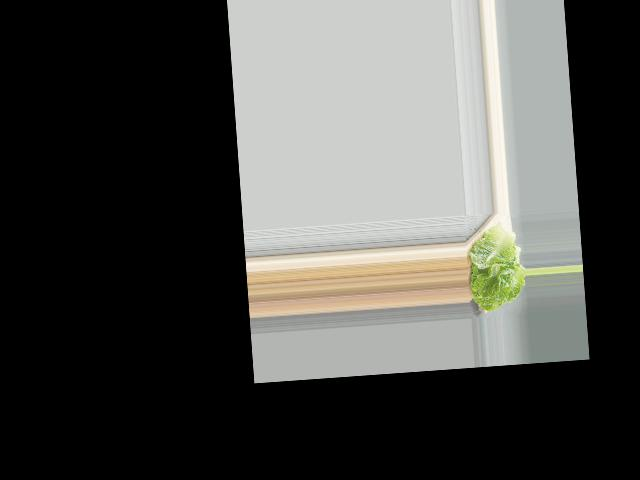lettuce: (463, 224, 527, 315)
